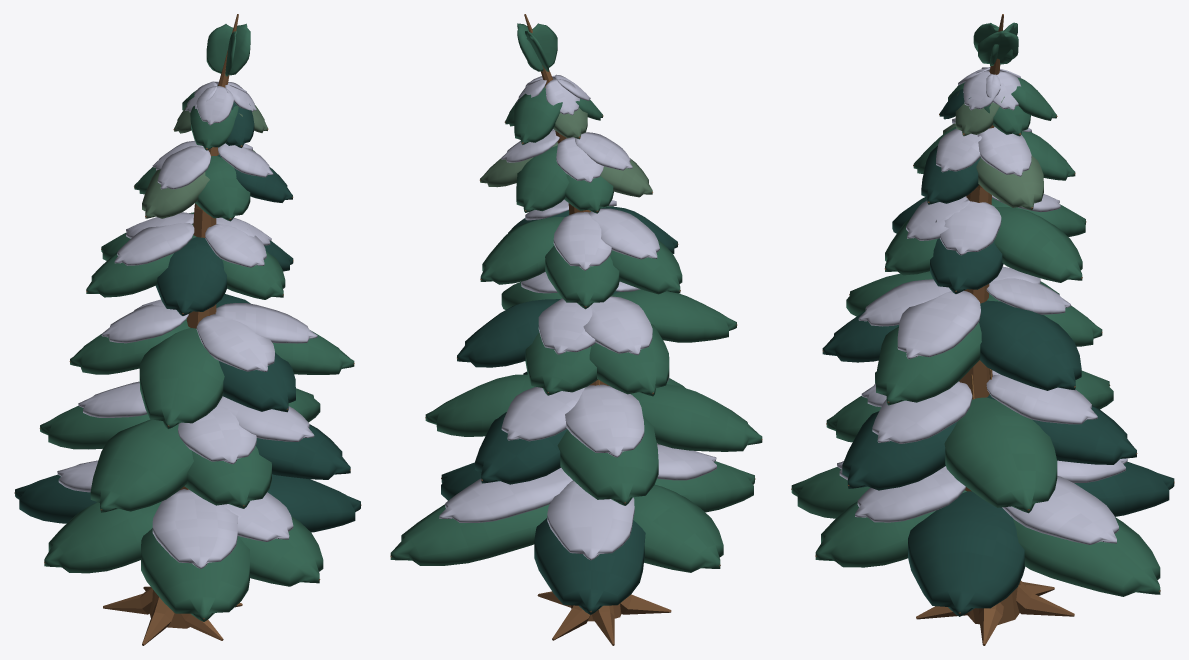
File: pine_swept_snow.glb
The picture shows the model from 3 angles, left to right: view 1: azimuth 30°, elevation 25°; view 2: azimuth 150°, elevation 25°; view 3: azimuth 270°, elevation 25°; orthographic projection. The views are drawn at different scales.
Parts seen in each view (by area): view 1: pine_swept_snow; view 2: pine_swept_snow; view 3: pine_swept_snow.
Boxes of the visible parts, bbox=[...] form: pine_swept_snow: bbox=[14, 14, 361, 645]; pine_swept_snow: bbox=[390, 14, 762, 645]; pine_swept_snow: bbox=[791, 14, 1174, 645].
Size of the model in its own units: 2.88 by 5.44 by 2.97.
